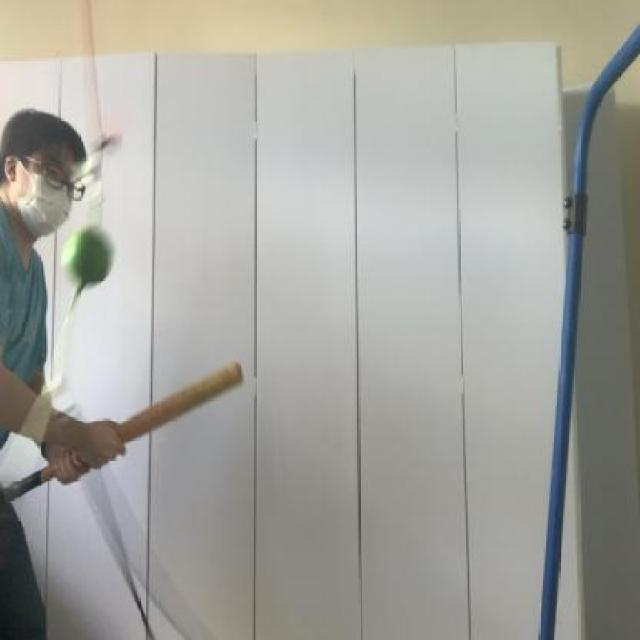baseball: (58, 222, 115, 296)
